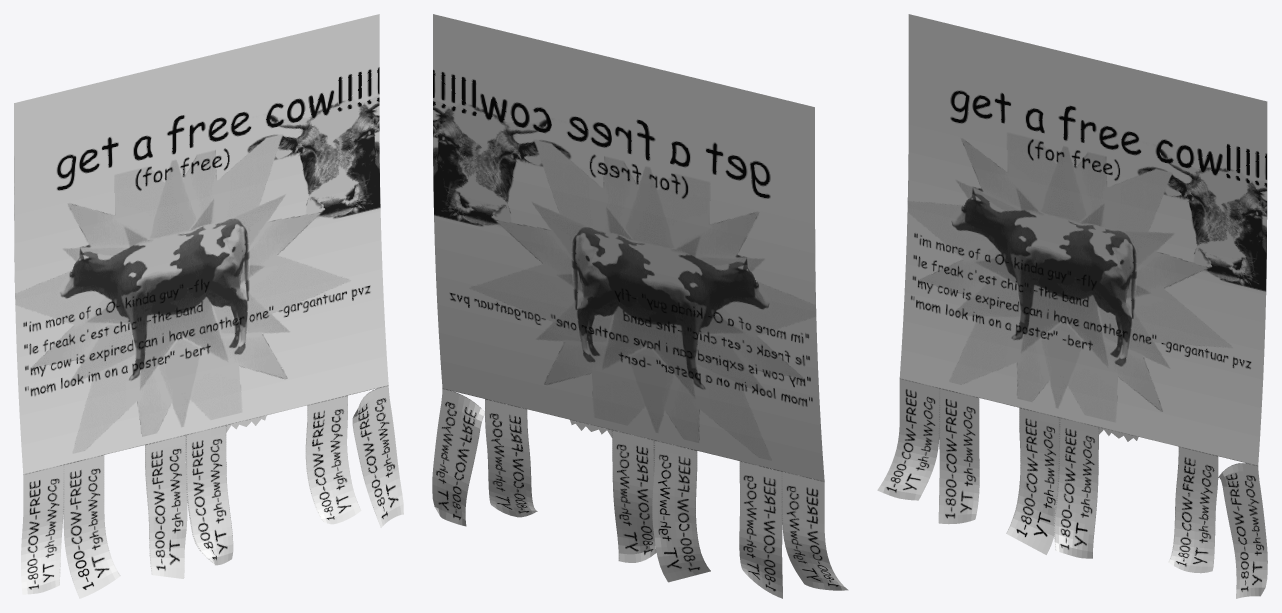
Rendered from freecow.glb.
3 renders of one model, left to right at view 1: azimuth 30°, elevation 25°; view 2: azimuth 150°, elevation 25°; view 3: azimuth 330°, elevation 25°, orthographic. The views are drawn at different scales.
Parts seen in each view (by area): view 1: Plane; view 2: Plane; view 3: Plane.
Boxes of the visible parts, <box> form: Plane: <box>14,14,403,598</box>; Plane: <box>432,14,848,598</box>; Plane: <box>877,14,1267,598</box>.
Bounding box in the file's own units: 2.13 × 2.63 × 0.2428.
1 material, 1 textured.
